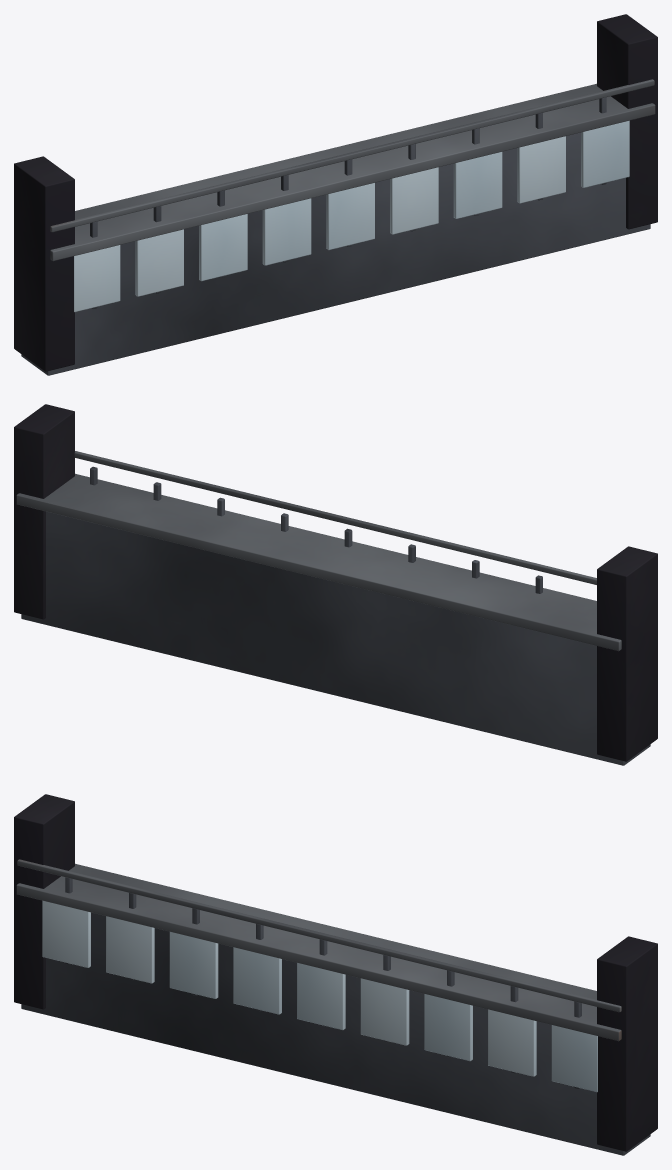
Rendered from building_palisade.fbx.
3 renders of one model, top to bottom at view 1: azimuth 30°, elevation 25°; view 2: azimuth 150°, elevation 25°; view 3: azimuth 330°, elevation 25°, orthographic.
Visible parts, largest first — view 1: building_palisade; view 2: building_palisade; view 3: building_palisade.
Boxes of the visible parts, x1,y1,x2,y2 form: building_palisade: (14,14,657,375); building_palisade: (14,404,657,765); building_palisade: (14,794,657,1155).
Bounding box in the file's own units: 9.15 × 2.75 × 0.95.
